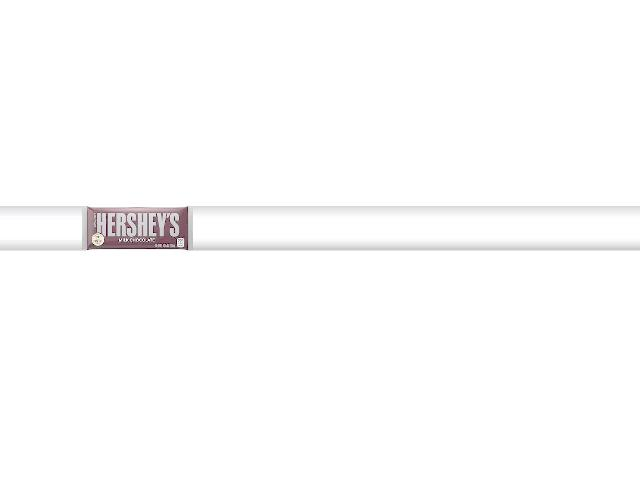chocolate: (84, 207, 192, 255)
